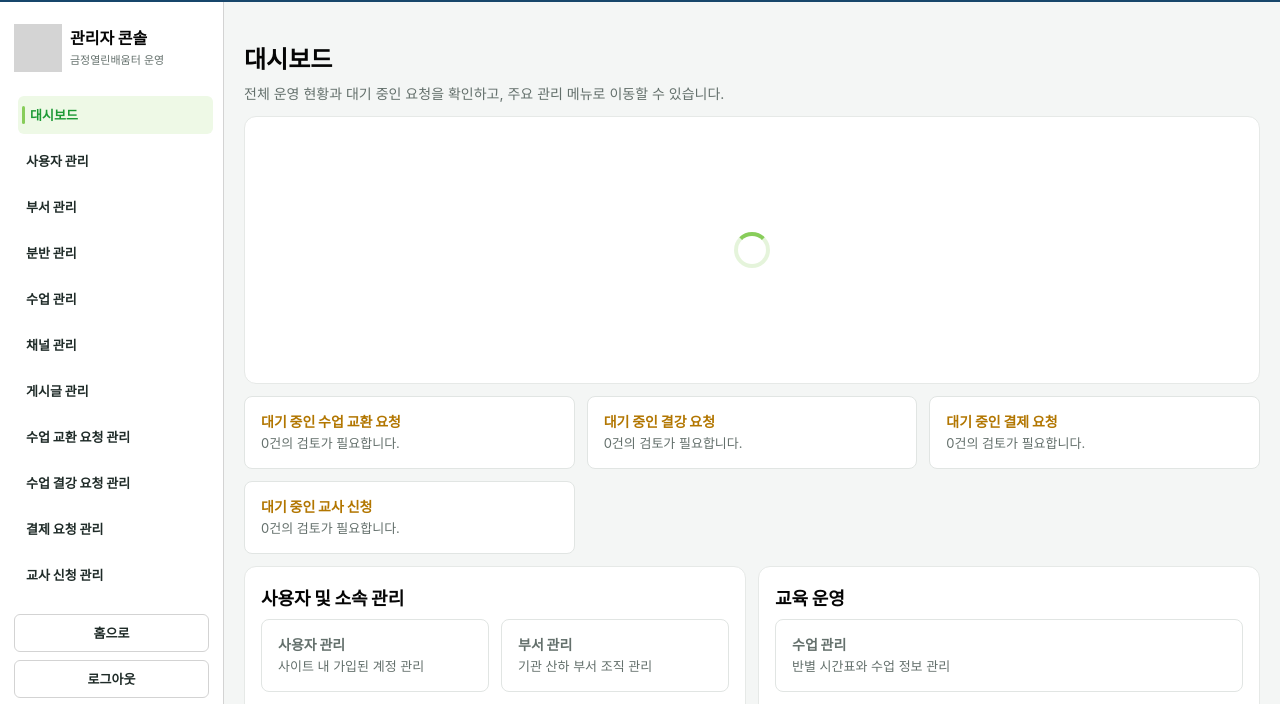
it: keeps keyboard focus in the student picker and returns it to the registration button
This screenshot has width=1280, height=704.
Step 1. Click the button "분반 관리" → (112, 253), box 14,234 -> 209,272
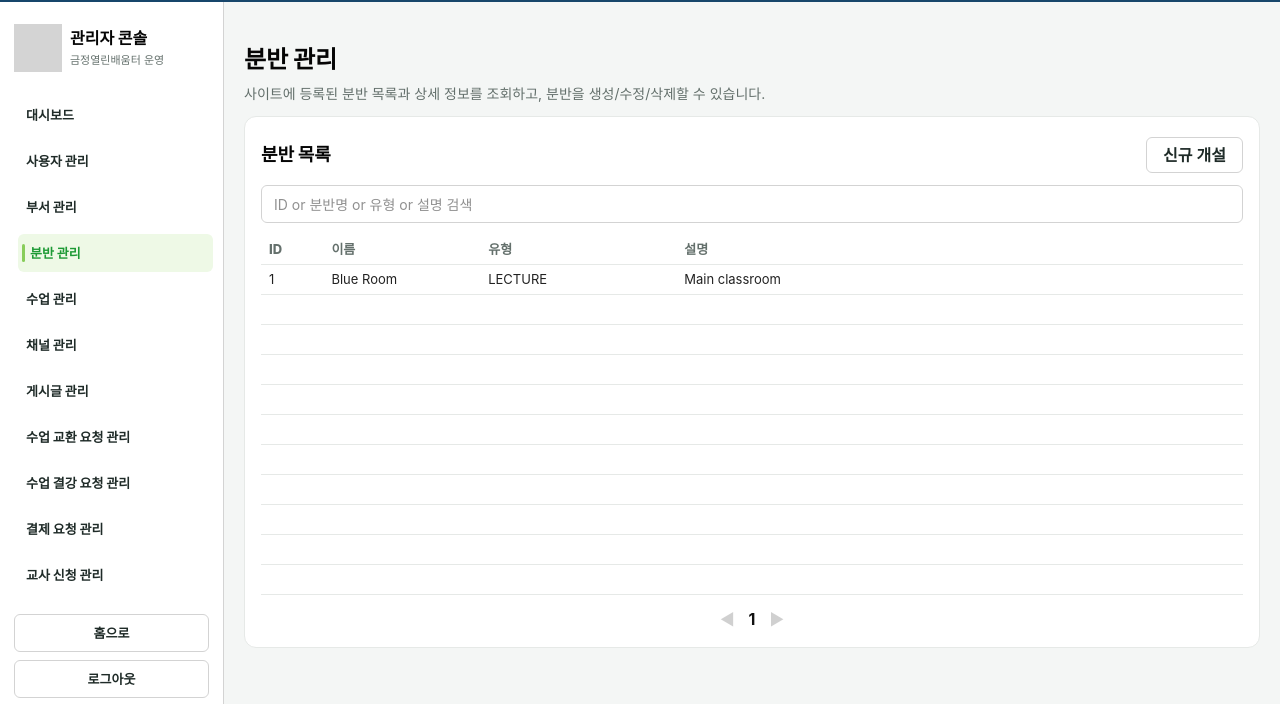
Step 2. Click the row "1 Blue Room LECTURE Main classroom" → (752, 280), box 261,265 -> 1243,295
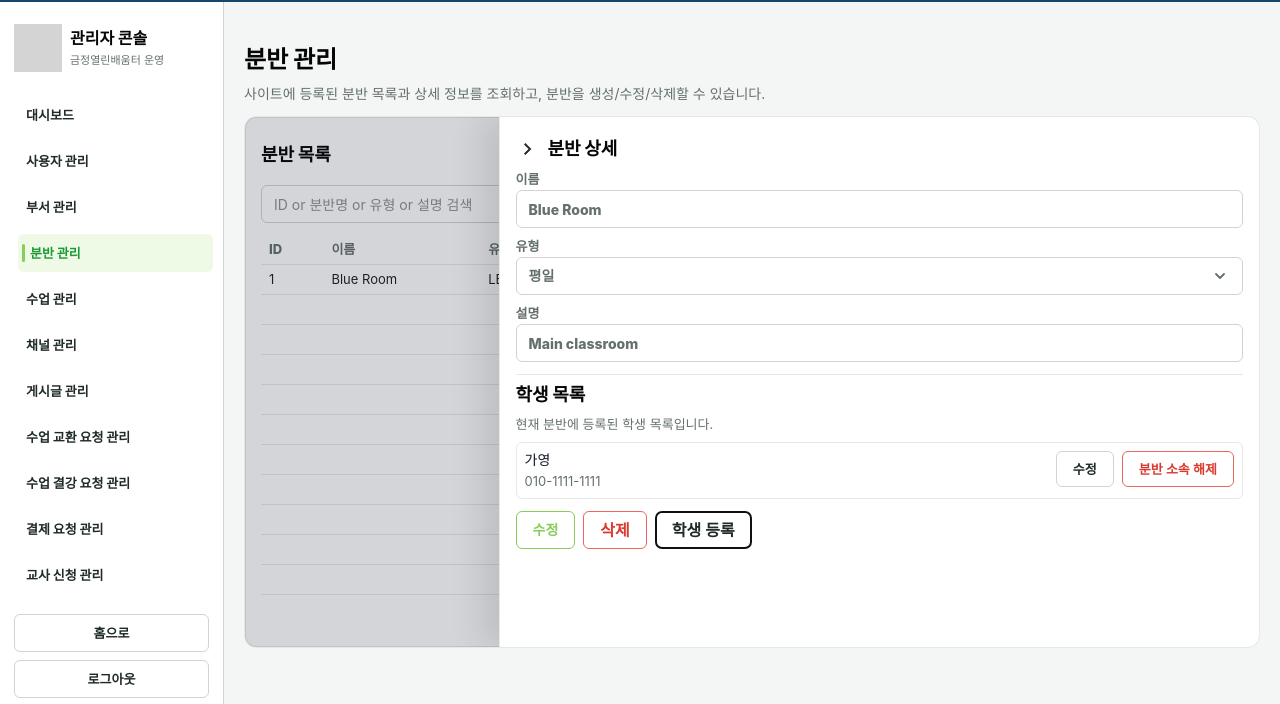
Now the text "가영" is shown, box 524,451 -> 550,468
Step 3. Click the button "학생 등록" → (703, 530), box 655,511 -> 752,549
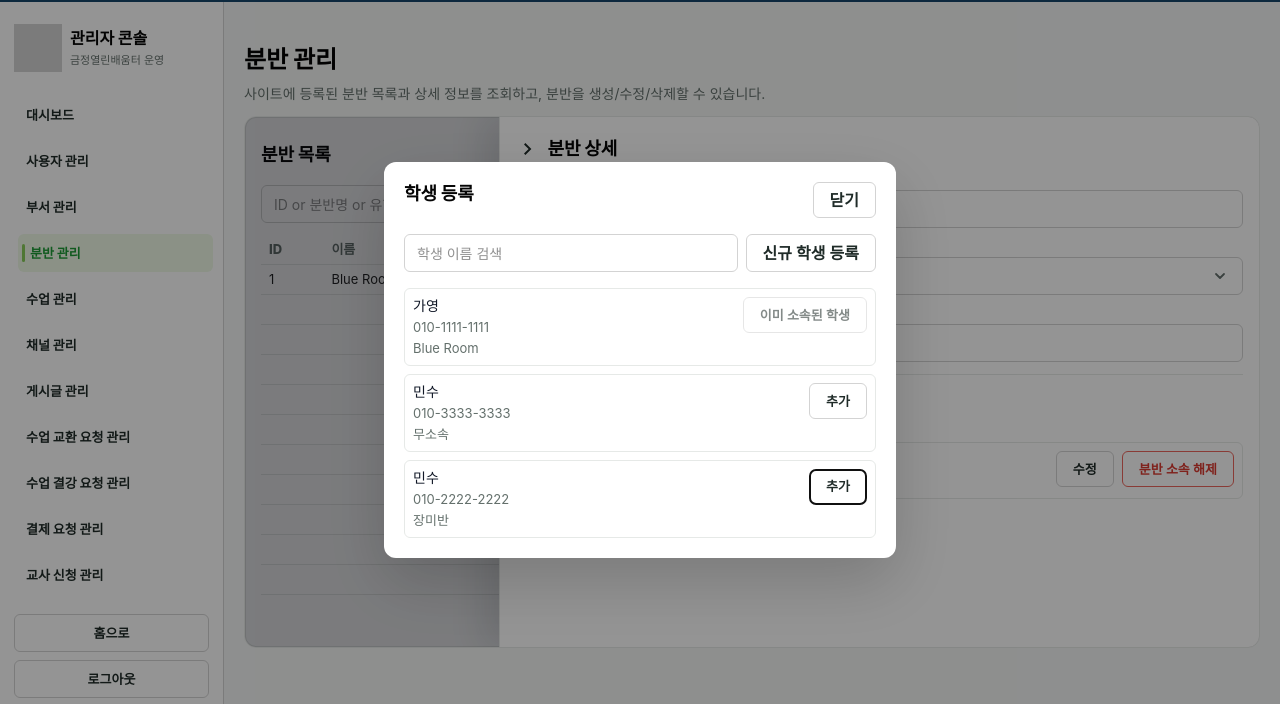
Now the dialog shows "010-3333-3333", box 413,405 -> 511,421
Step 4. Press Tab in the button "추가" in the row of "010-2222-2222", box 809,469 -> 867,505
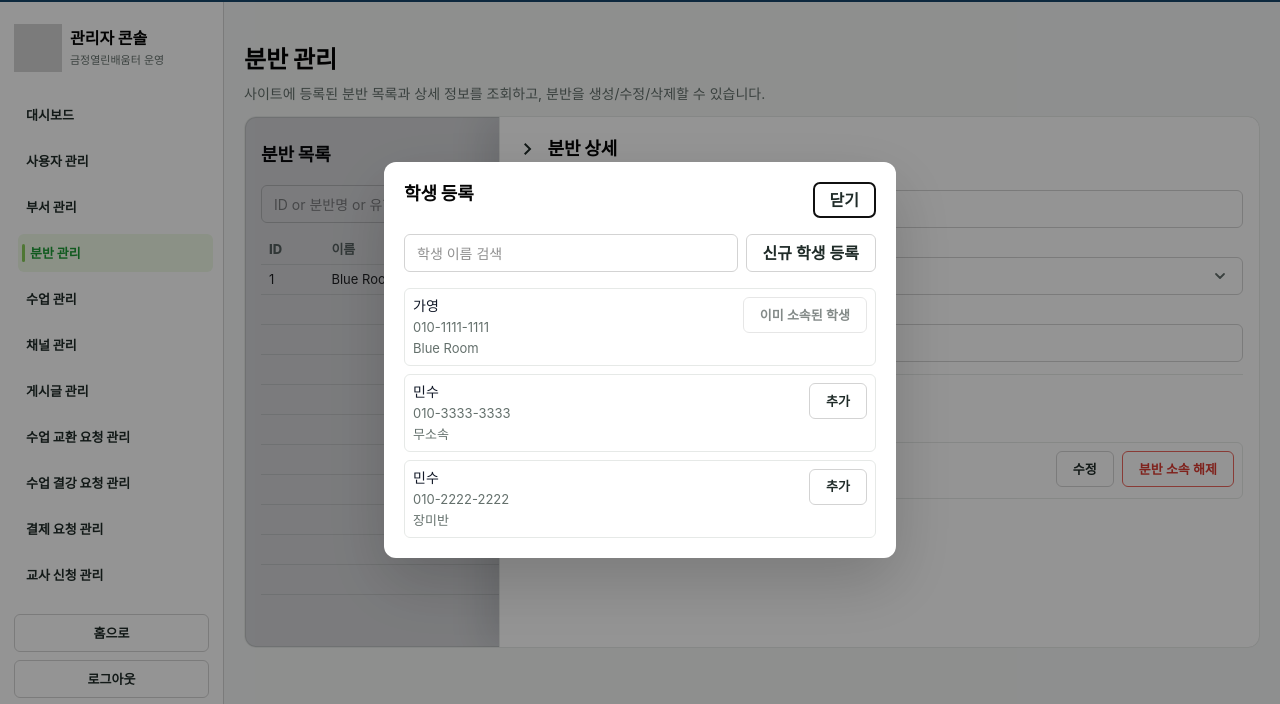
Step 5. Press Tab in the button "닫기", box 812,182 -> 876,218
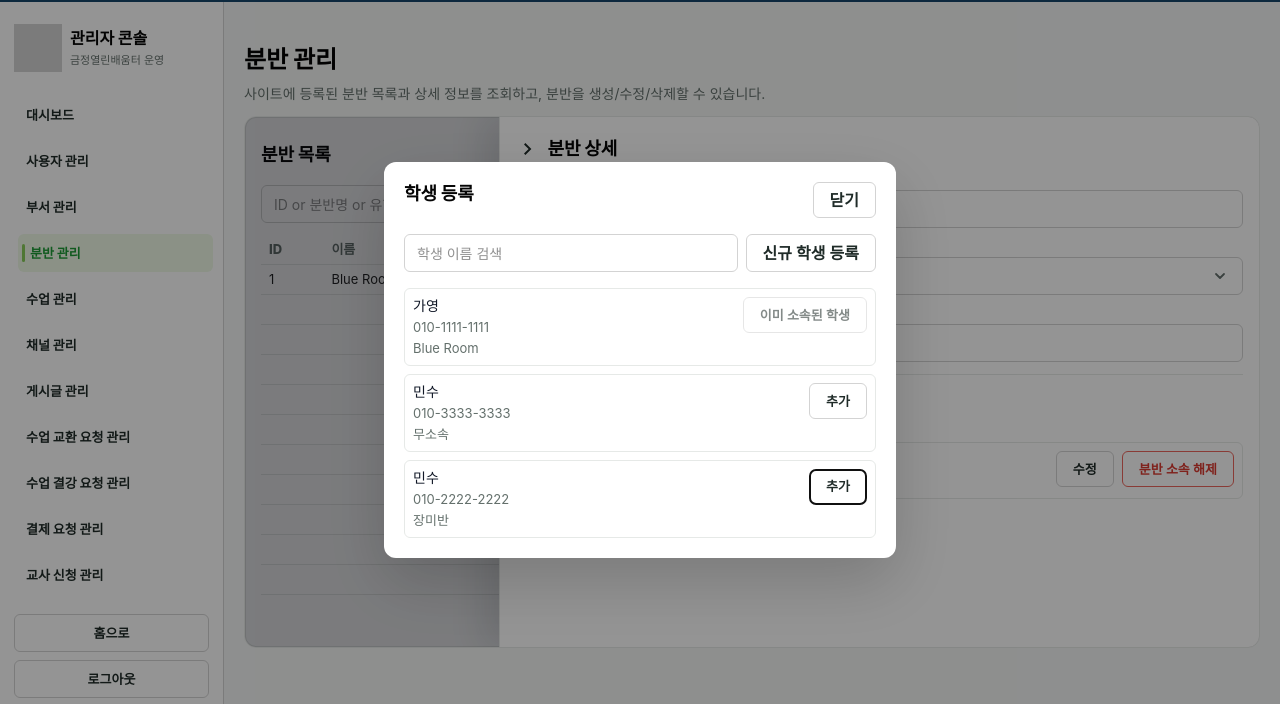
Step 6. Press Escape in the button "추가" in the row of "010-2222-2222", box 809,469 -> 867,505
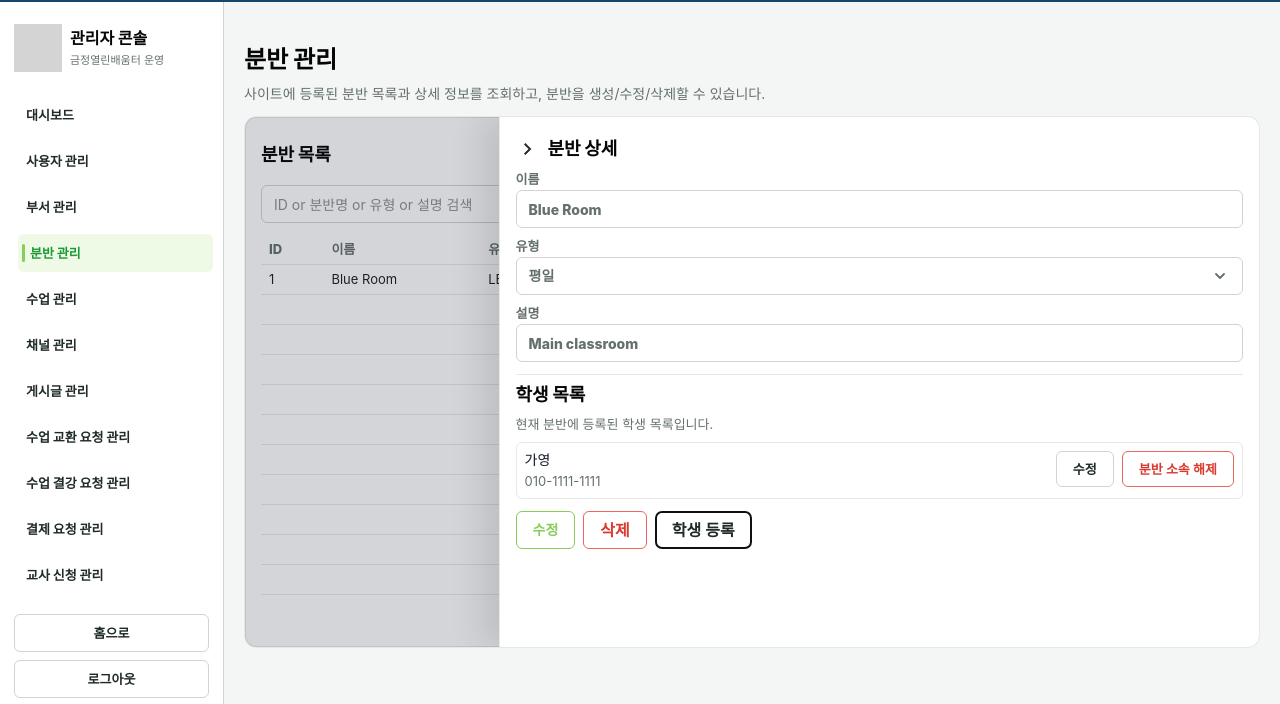
Now the dialog is gone
